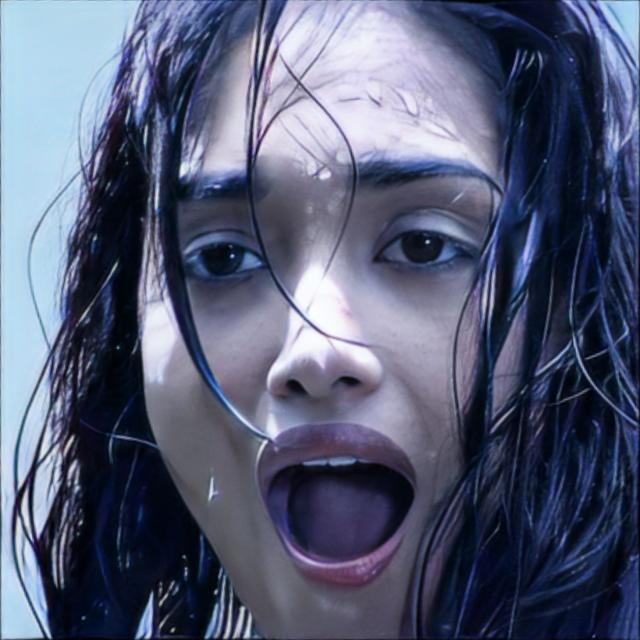fear: (138, 0, 576, 640)
